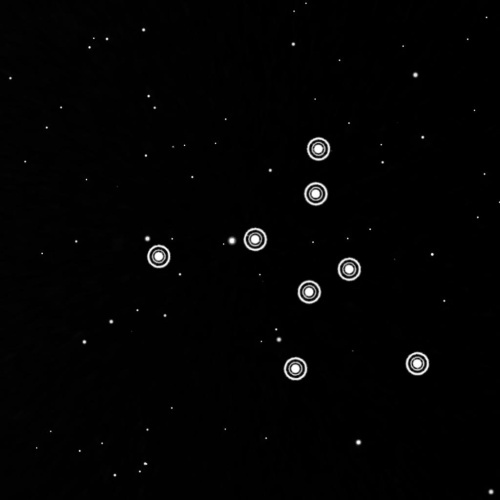hercules: (142, 131, 432, 387)
